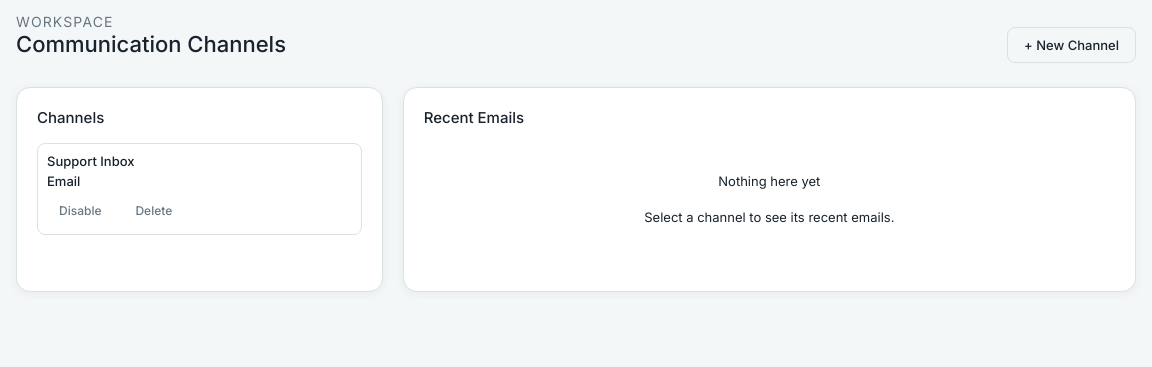
Test case: CommunicationChannelsManagementView › shows the empty emails state for a channel with no emails
Click the button with class "channel-select": (91, 161) [46, 152, 353, 190]
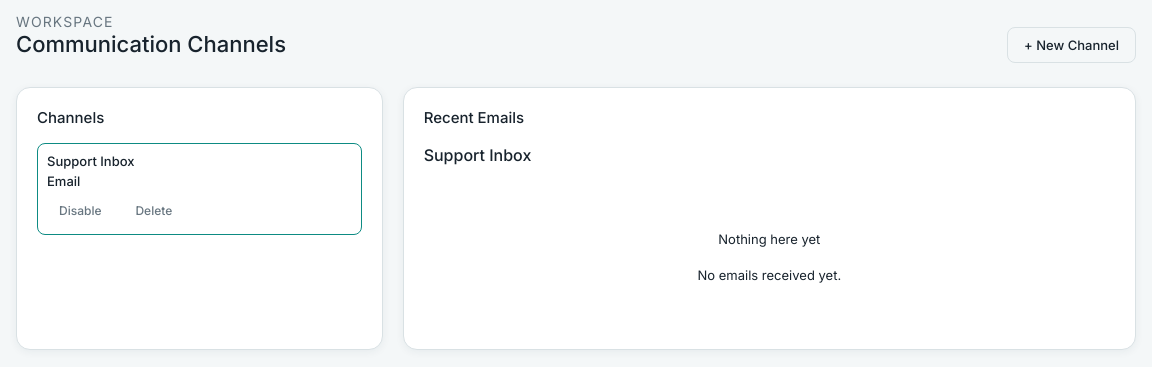
Now the text "No emails received yet." is shown, box [698, 267, 841, 283]
